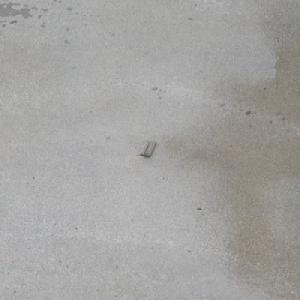MetalPart: (135, 140, 157, 157)
